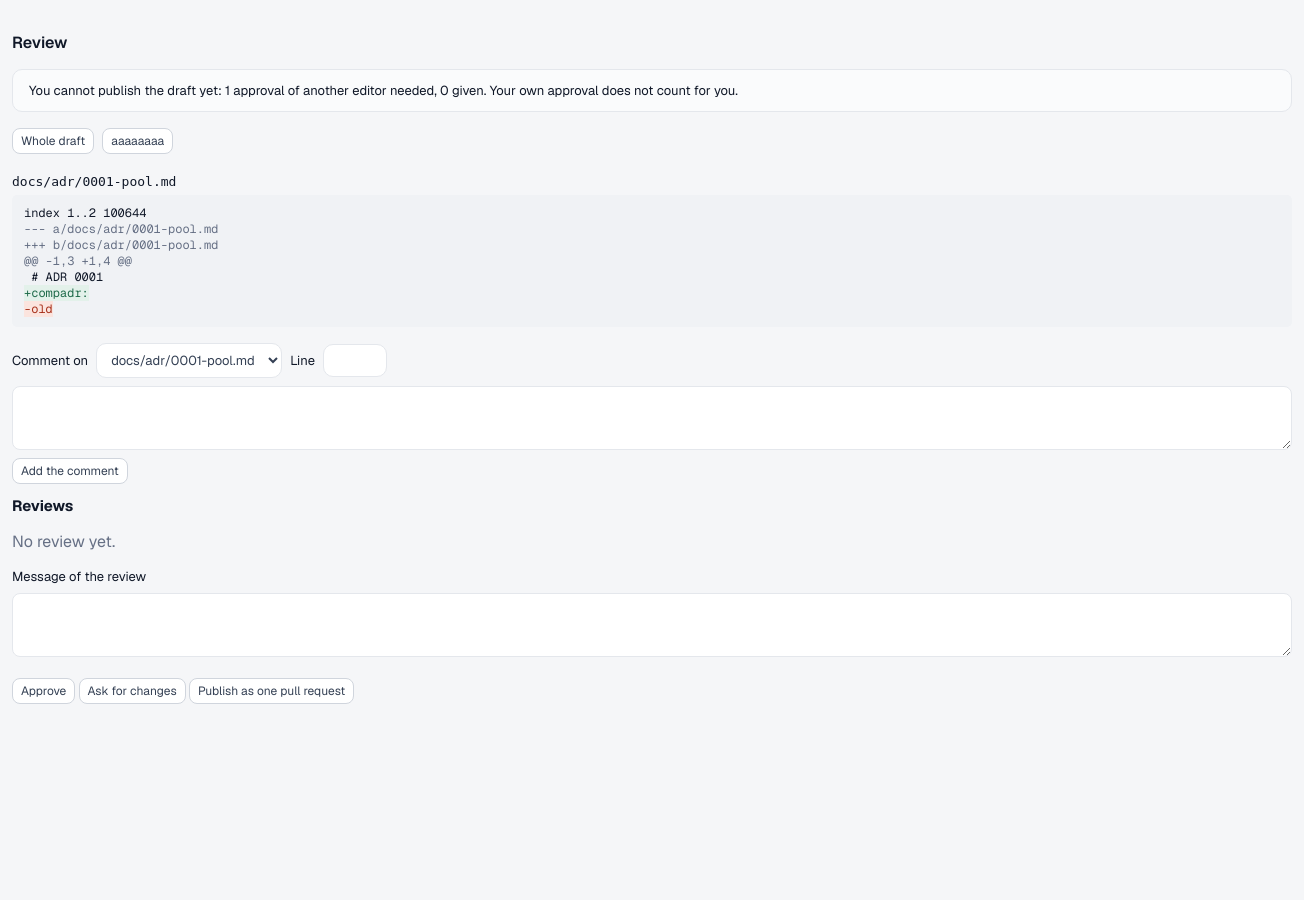
Scenario: DraftReview › approves the tip that the person read, then publishes
The width and height of the screenshot is (1304, 900).
Later steps or results of the test are not shown.
Click the button "Approve".
click(44, 691)  # box [12,678,75,704]
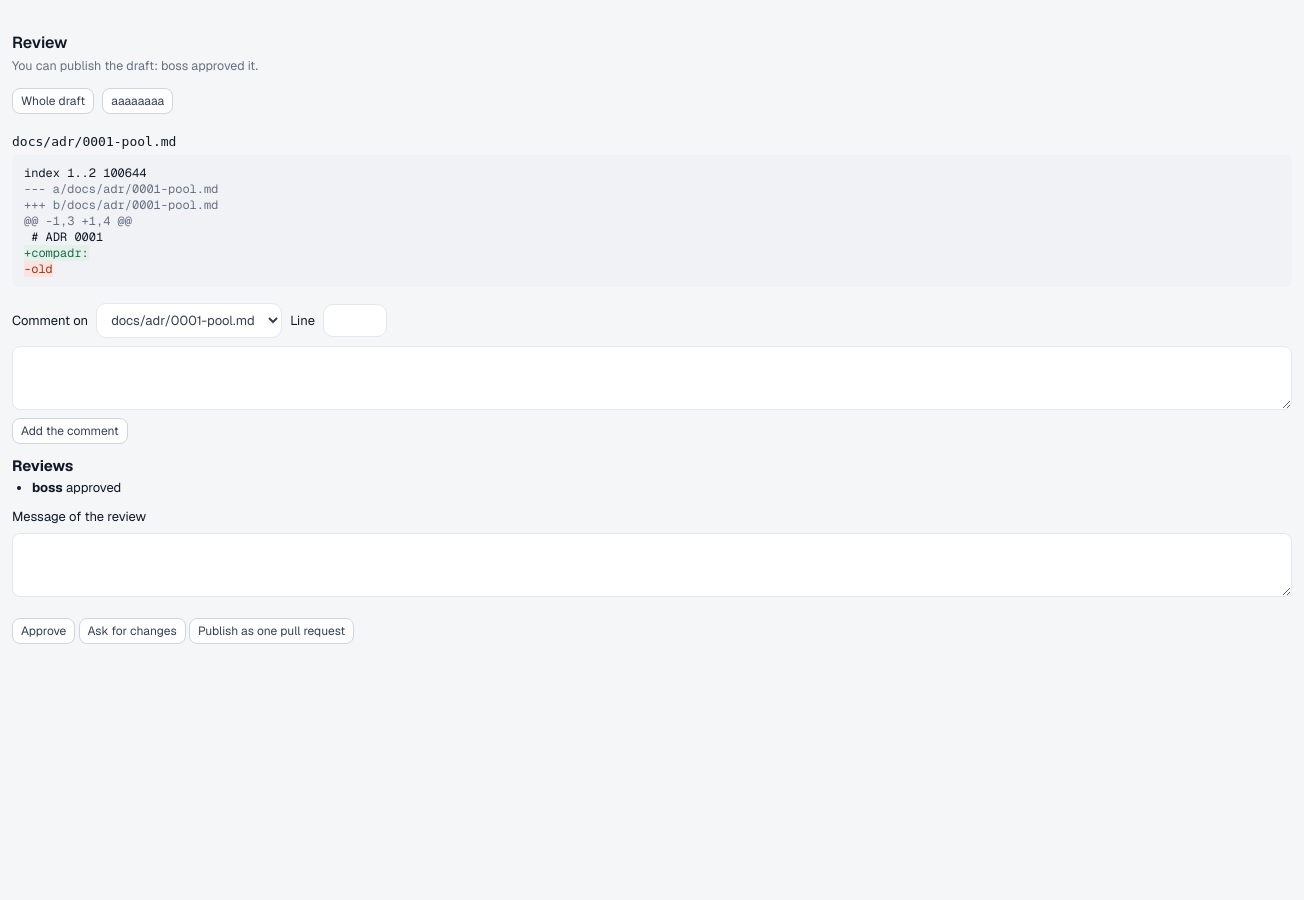
Expected: the text "You can publish the draft: boss approved it." is shown, [12,57,258,74]
Expected: the list item reads "boss approved", [32,479,121,496]
